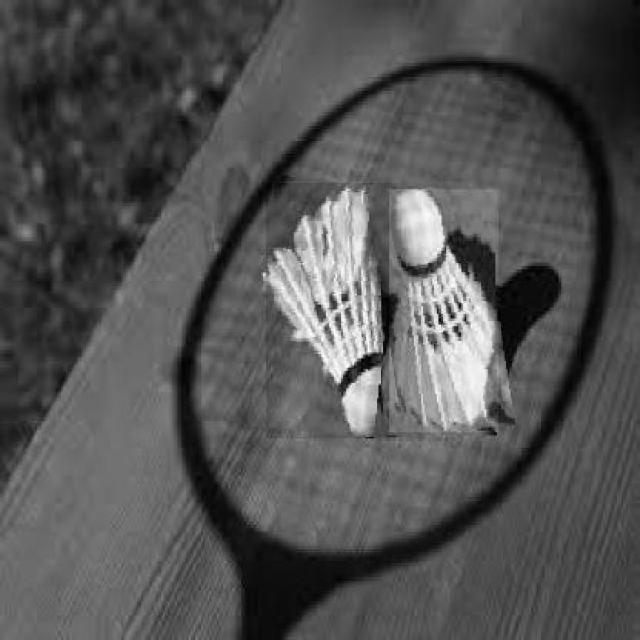Shuttlecock: (265, 182, 395, 437), (388, 188, 497, 431)
